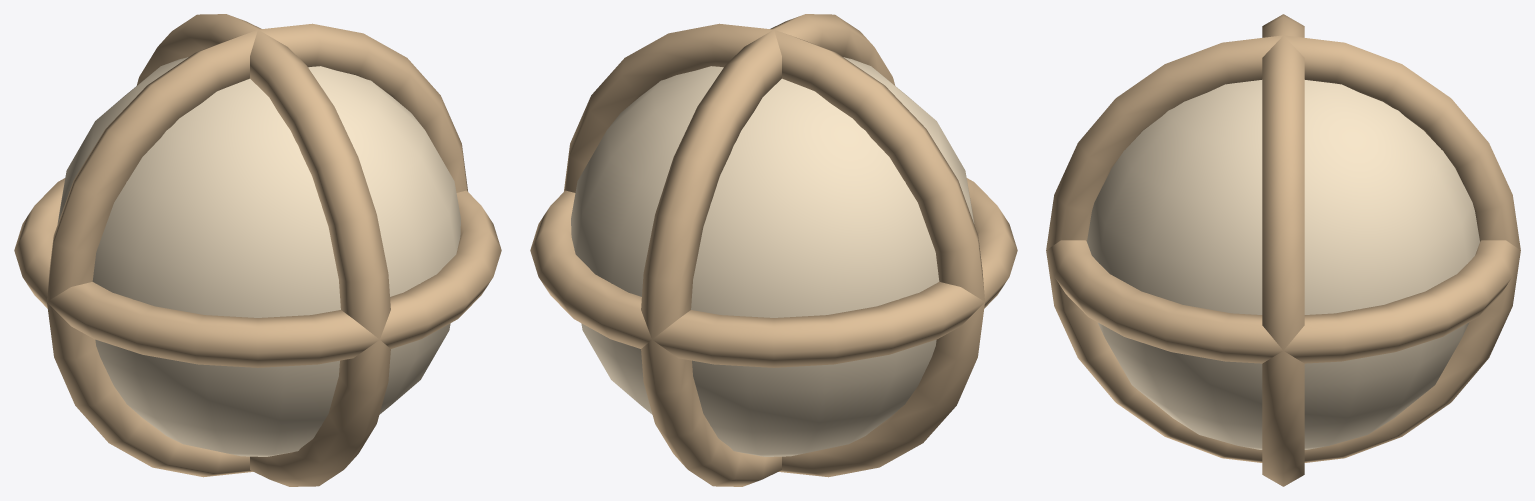
Rendered from chew_toy.glb.
3 views of the same model, side by side, from view 1: azimuth 30°, elevation 25°; view 2: azimuth 150°, elevation 25°; view 3: azimuth 270°, elevation 25° (orthographic). The views are drawn at different scales.
Parts seen in each view (by area): view 1: chew_bands, chew_ball; view 2: chew_bands, chew_ball; view 3: chew_ball, chew_bands.
Part boxes in pixels (x1,y1,x2,y2): chew_bands: (14,14,501,486); chew_ball: (57,57,460,456); chew_bands: (530,14,1017,486); chew_ball: (571,57,974,456); chew_ball: (1087,80,1479,449); chew_bands: (1046,14,1520,486).
Size of the model in its own units: 0.234 by 0.234 by 0.234.
